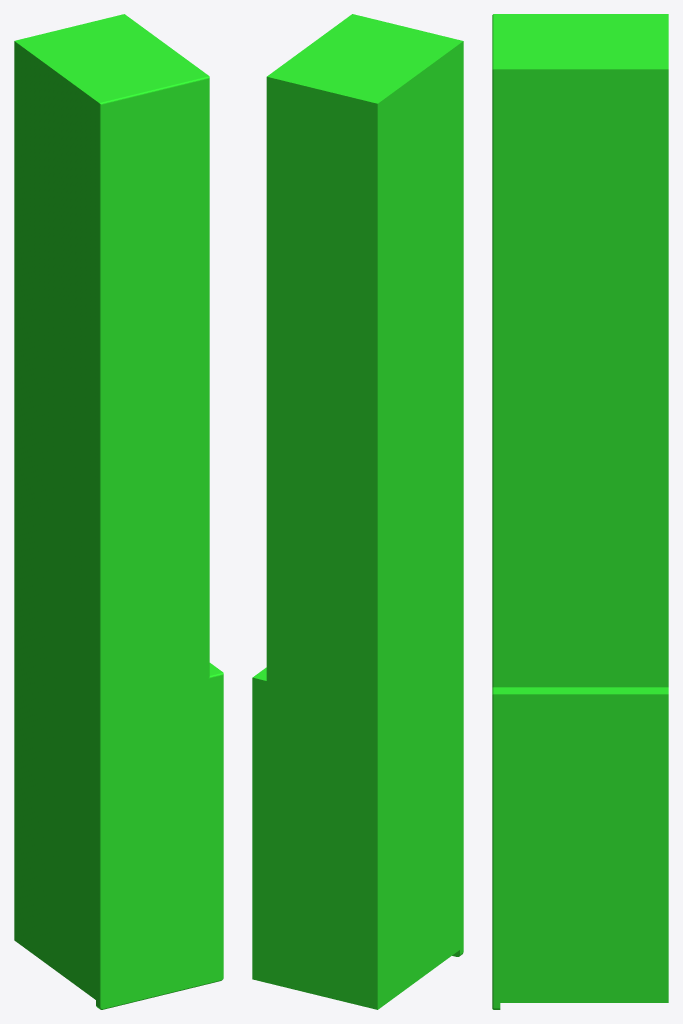
The model's file is Kbdalow.obj.
The picture shows the model from 3 angles, left to right: view 1: azimuth 30°, elevation 25°; view 2: azimuth 150°, elevation 25°; view 3: azimuth 270°, elevation 25°; orthographic projection. The views are drawn at different scales.
Parts seen in each view (by area): view 1: Kbdalow; view 2: Kbdalow; view 3: Kbdalow.
Boxes of the visible parts, bbox=[...] form: Kbdalow: bbox=[14, 14, 223, 1009]; Kbdalow: bbox=[252, 14, 463, 1009]; Kbdalow: bbox=[492, 14, 668, 1009].
Size of the model in its own units: 0.1535 by 1.07 by 0.1833.
